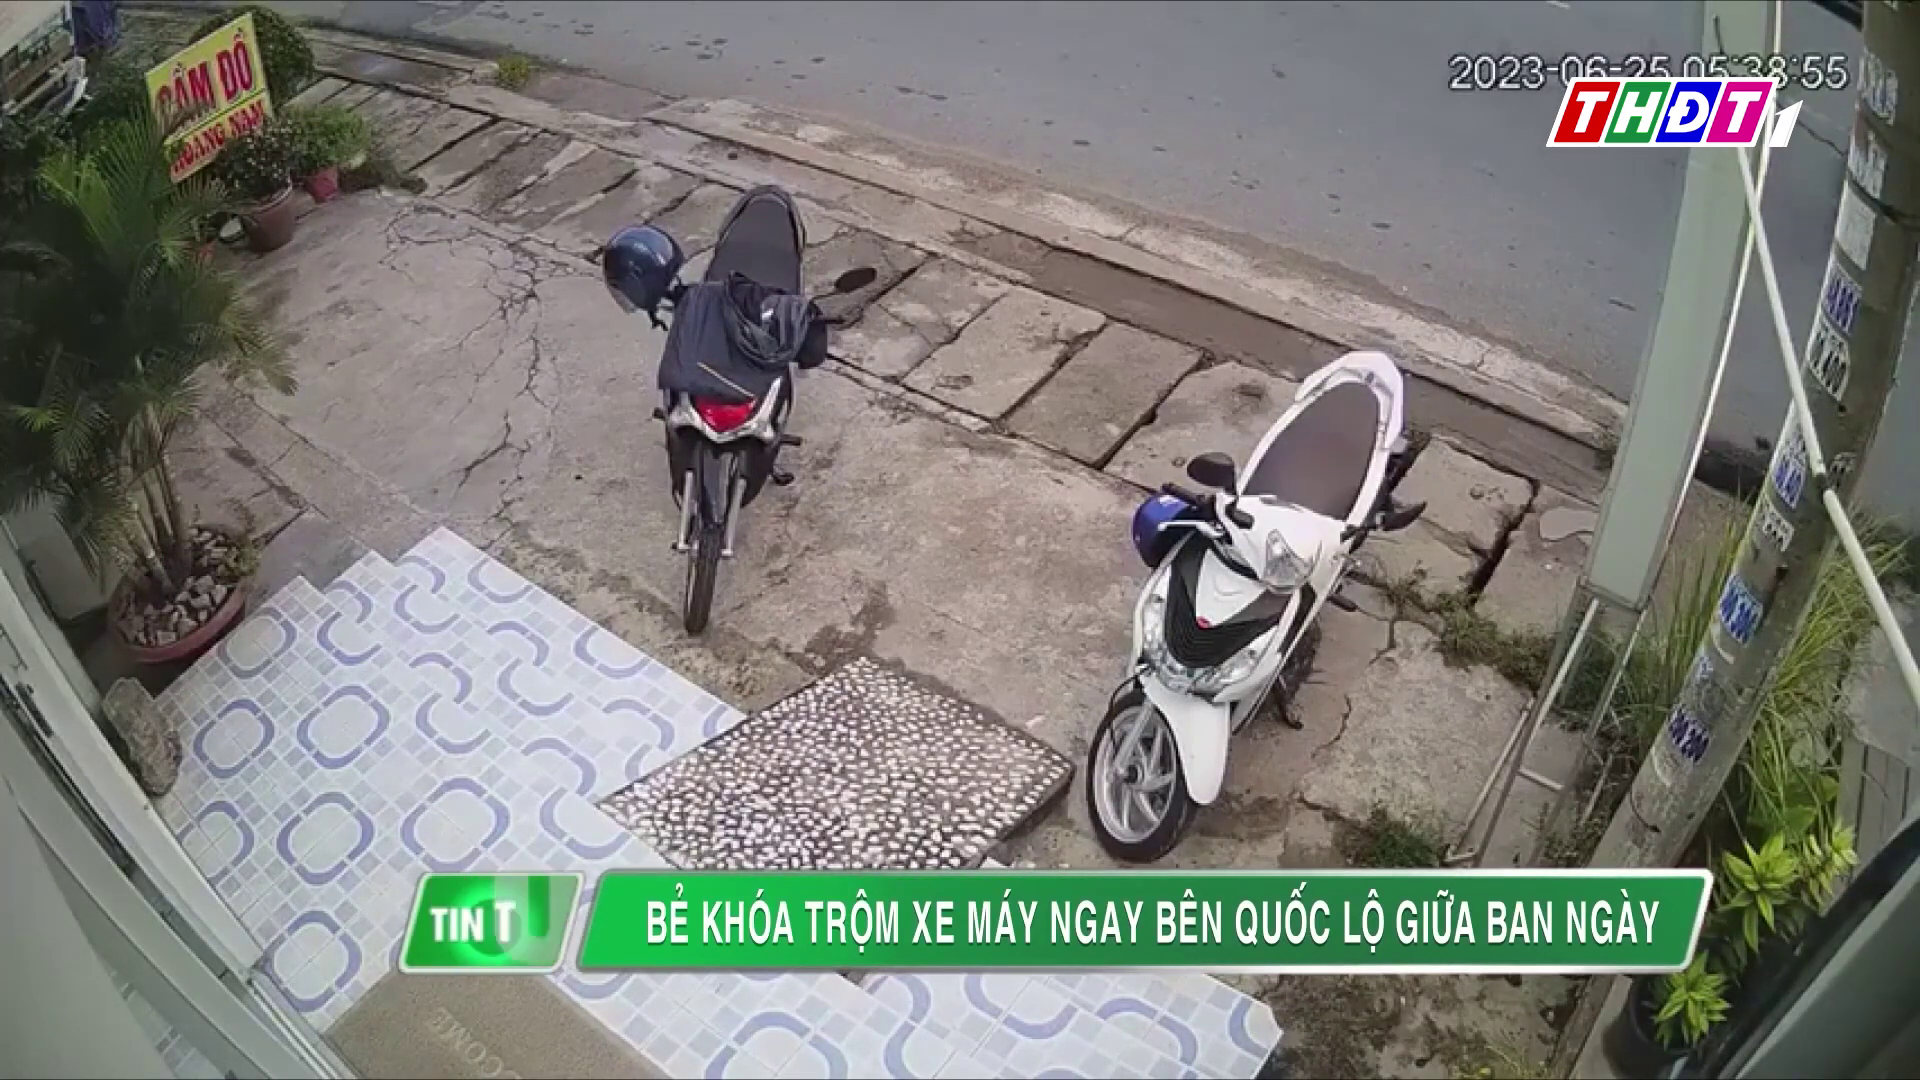Motorcycle: (1084, 348, 1429, 865), (599, 182, 880, 637)
